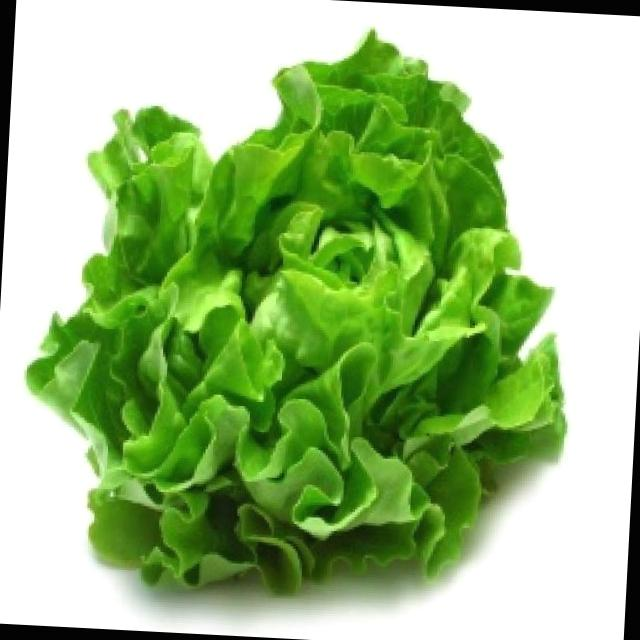Lettuce-Ready-to-Harvest: (27, 32, 564, 592)
